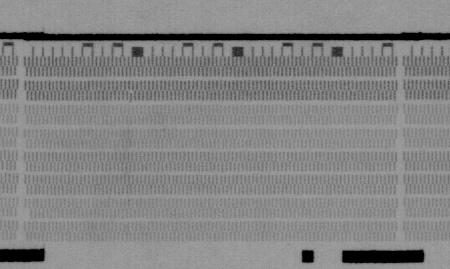Broken hole: (22, 210, 33, 221)
Oblique printing: (125, 90, 138, 105)
